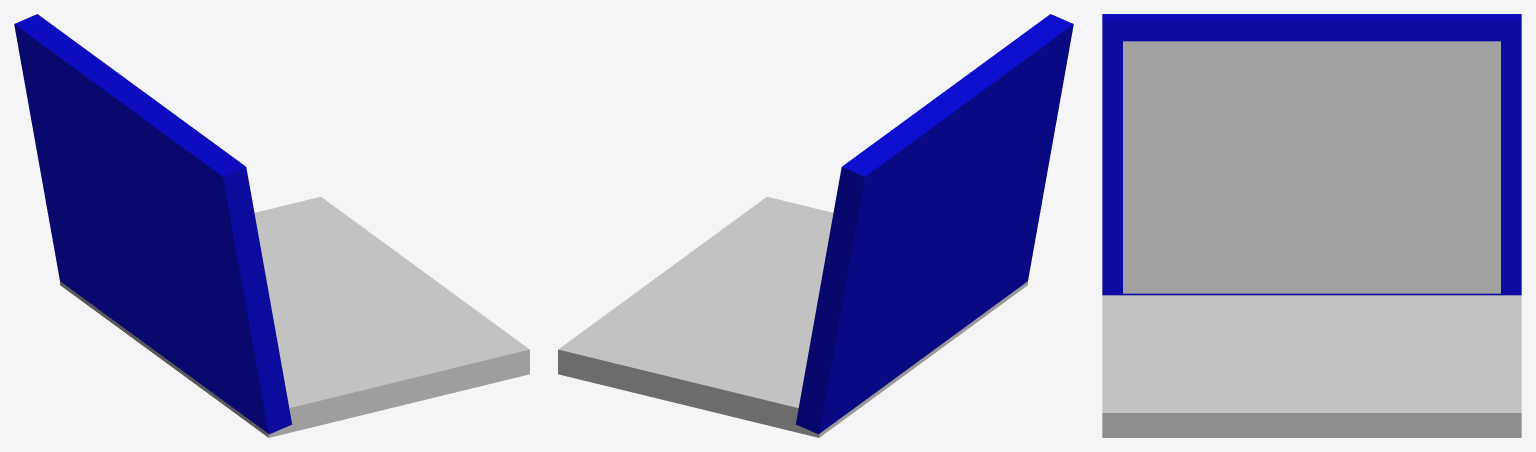
File: Computer.fbx
3 renders of one model, left to right at view 1: azimuth 30°, elevation 25°; view 2: azimuth 150°, elevation 25°; view 3: azimuth 270°, elevation 25°, orthographic.
Parts seen in each view (by area): view 1: pCube64, pCube63; view 2: pCube64, pCube63; view 3: pCube64, pCube63.
Boxes of the visible parts, bbox=[...] form: pCube64: bbox=[14, 14, 292, 434]; pCube63: bbox=[60, 196, 529, 437]; pCube64: bbox=[795, 14, 1073, 434]; pCube63: bbox=[558, 196, 1027, 437]; pCube64: bbox=[1102, 14, 1521, 295]; pCube63: bbox=[1102, 295, 1521, 437].
Size of the model in its own units: 3.42 by 2.94 by 4.03.
